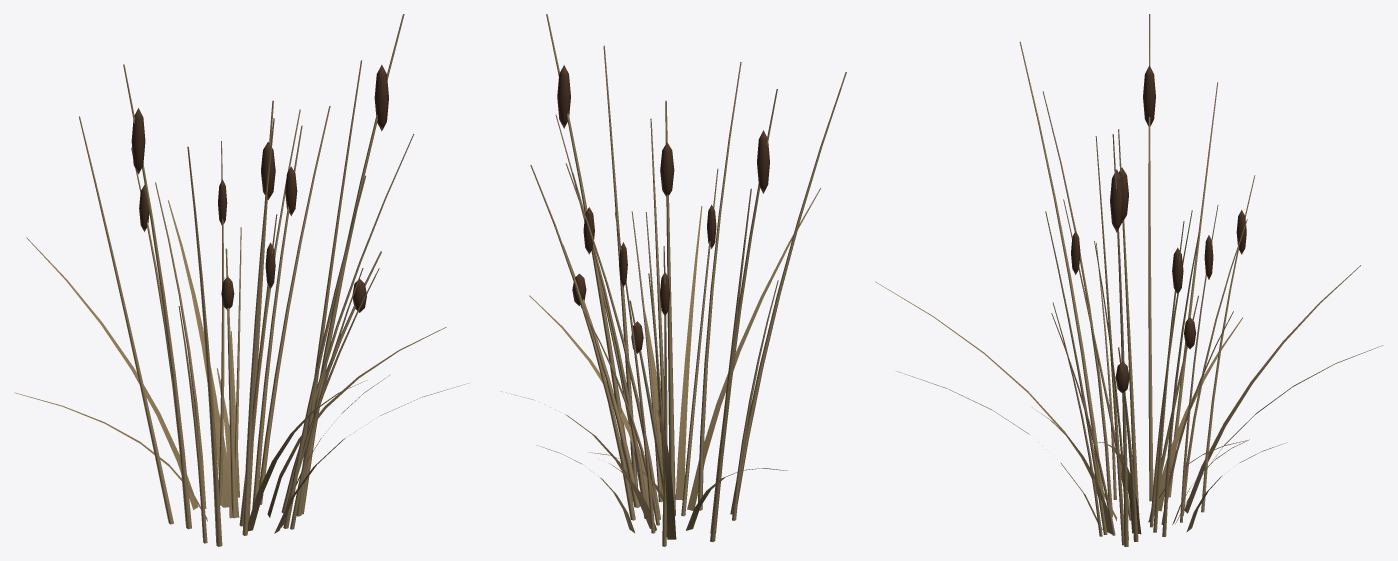
The model's file is reed_clump_1.glb.
3 views of the same model, side by side, from view 1: azimuth 30°, elevation 25°; view 2: azimuth 150°, elevation 25°; view 3: azimuth 270°, elevation 25° (orthographic). The views are drawn at different scales.
Visible parts, largest first — view 1: ReedClump_Stalks_1, ReedClump_Stalks_0, ReedClump_Stalks_2, ReedClump_Blades_1, ReedClump_Blades_0, ReedClump_Heads_1, ReedClump_Blades_2, ReedClump_Heads_2, ReedClump_Heads_0; view 2: ReedClump_Stalks_2, ReedClump_Stalks_1, ReedClump_Stalks_0, ReedClump_Blades_1, ReedClump_Blades_2, ReedClump_Blades_0, ReedClump_Heads_1, ReedClump_Heads_2, ReedClump_Heads_0; view 3: ReedClump_Stalks_1, ReedClump_Stalks_2, ReedClump_Stalks_0, ReedClump_Heads_1, ReedClump_Blades_1, ReedClump_Blades_0, ReedClump_Blades_2, ReedClump_Heads_0, ReedClump_Heads_2.
Part boxes in pixels (x1,y1,x2,y2): ReedClump_Stalks_1: (123,64,363,546); ReedClump_Stalks_0: (79,116,414,528); ReedClump_Stalks_2: (178,14,404,543); ReedClump_Blades_1: (26,237,367,531); ReedClump_Blades_0: (168,200,446,527); ReedClump_Heads_1: (131,108,297,288); ReedClump_Blades_2: (14,368,468,533); ReedClump_Heads_2: (261,64,388,200); ReedClump_Heads_0: (139,185,366,312); ReedClump_Stalks_2: (530,14,778,520); ReedClump_Stalks_1: (572,62,846,533); ReedClump_Stalks_0: (555,114,751,546); ReedClump_Blades_1: (609,188,820,539); ReedClump_Blades_2: (589,206,787,530); ReedClump_Blades_0: (501,295,663,532); ReedClump_Heads_1: (583,130,769,287); ReedClump_Heads_2: (557,65,674,196); ReedClump_Heads_0: (572,272,669,353); ReedClump_Stalks_1: (1019,14,1218,536); ReedClump_Stalks_2: (1051,129,1199,546); ReedClump_Stalks_0: (1045,82,1255,541); ReedClump_Heads_1: (1071,65,1213,294); ReedClump_Blades_1: (875,265,1360,524); ReedClump_Blades_0: (1032,345,1383,534); ReedClump_Blades_2: (896,317,1248,529); ReedClump_Heads_0: (1115,210,1246,393); ReedClump_Heads_2: (1110,167,1128,232).
Size of what is drawn, in the model's own units: 1.43 by 1.86 by 1.88.
